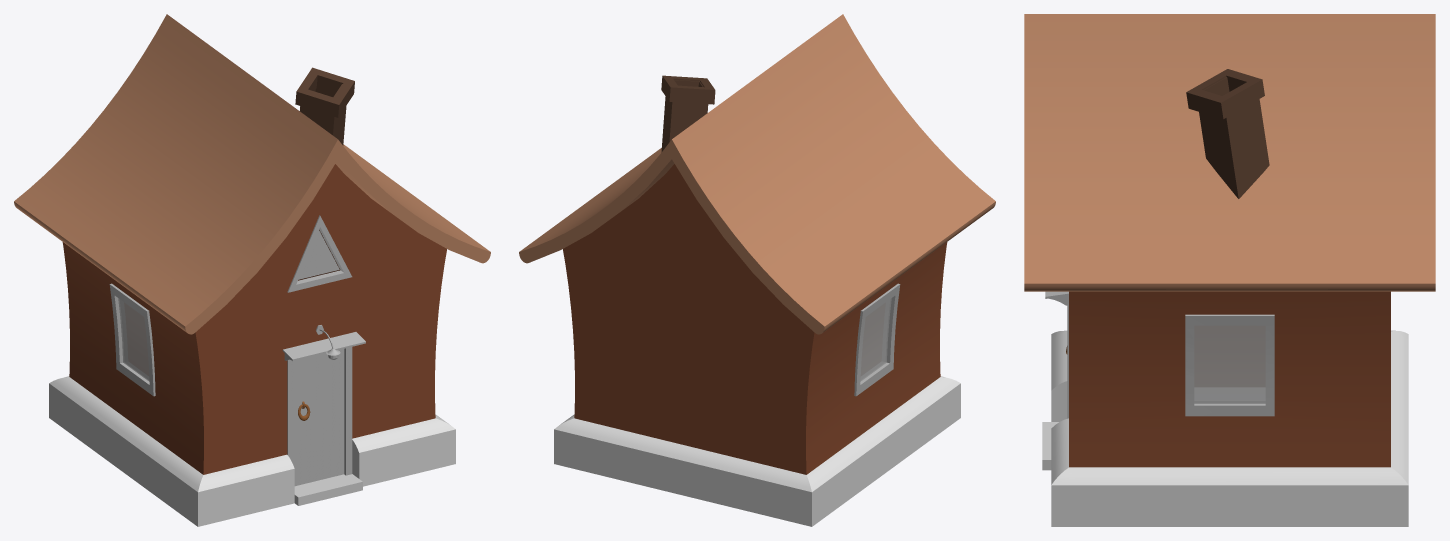
Rendered from CartoonHouse3.fbx.
3 views of the same model, side by side, from view 1: azimuth 30°, elevation 25°; view 2: azimuth 150°, elevation 25°; view 3: azimuth 270°, elevation 25° (orthographic). The views are drawn at different scales.
Parts seen in each view (by area): view 1: Furniture Systems <Furniture Systems 1 : Furniture Systems 1, Walls <Basic Wall : norma_duvar : >, Walls <Basic Wall : Deneme : >, Furniture Systems <Furniture Systems 2 : Furniture Systems 2 (×2), Furniture Systems <yancam : yancam> (×2), Furniture Systems <baca : baca>, Furniture Systems <onpencere : onpencere> (×2), Furniture Systems <giris1 : giris1>, Furniture Systems <Furniture Systems 3 : Furniture Systems 3; view 2: Walls <Basic Wall : norma_duvar : >, Furniture Systems <Furniture Systems 1 : Furniture Systems 1, Walls <Basic Wall : Deneme : >, Furniture Systems <yancam : yancam> (×2), Furniture Systems <baca : baca>; view 3: Furniture Systems <Furniture Systems 1 : Furniture Systems 1, Walls <Basic Wall : norma_duvar : >, Walls <Basic Wall : Deneme : >, Furniture Systems <yancam : yancam> (×2), Furniture Systems <baca : baca>, Furniture Systems <giris1 : giris1>.
Boxes of the visible parts, <box> form: Furniture Systems <Furniture Systems 1 : Furniture Systems 1: <box>14,14,490,334</box>; Walls <Basic Wall : norma_duvar : >: <box>62,164,446,474</box>; Walls <Basic Wall : Deneme : >: <box>49,376,455,526</box>; Furniture Systems <Furniture Systems 2 : Furniture Systems 2 (×2): <box>287,347,352,486</box>; Furniture Systems <yancam : yancam> (×2): <box>109,283,155,396</box>; Furniture Systems <baca : baca>: <box>295,67,354,145</box>; Furniture Systems <onpencere : onpencere> (×2): <box>287,215,352,292</box>; Furniture Systems <giris1 : giris1>: <box>294,474,362,505</box>; Furniture Systems <Furniture Systems 3 : Furniture Systems 3: <box>282,332,365,361</box>; Walls <Basic Wall : norma_duvar : >: <box>563,164,947,474</box>; Furniture Systems <Furniture Systems 1 : Furniture Systems 1: <box>519,14,995,334</box>; Walls <Basic Wall : Deneme : >: <box>554,376,960,526</box>; Furniture Systems <yancam : yancam> (×2): <box>854,283,900,396</box>; Furniture Systems <baca : baca>: <box>661,75,715,152</box>; Furniture Systems <Furniture Systems 1 : Furniture Systems 1: <box>1024,14,1435,291</box>; Walls <Basic Wall : norma_duvar : >: <box>1069,291,1390,467</box>; Walls <Basic Wall : Deneme : >: <box>1051,330,1408,526</box>; Furniture Systems <yancam : yancam> (×2): <box>1185,314,1274,416</box>; Furniture Systems <baca : baca>: <box>1186,69,1269,198</box>; Furniture Systems <giris1 : giris1>: <box>1042,422,1058,470</box>.
Bounding box in the file's own units: 47.41 × 53.99 × 46.
